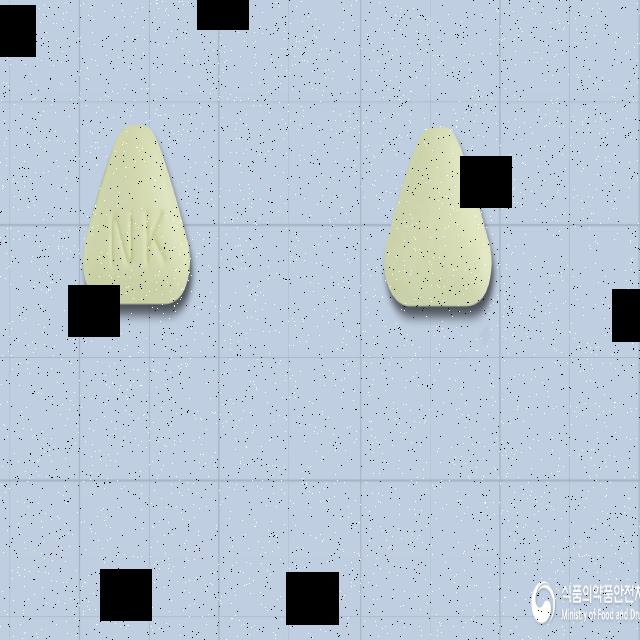Aris: (80, 114, 196, 322)
